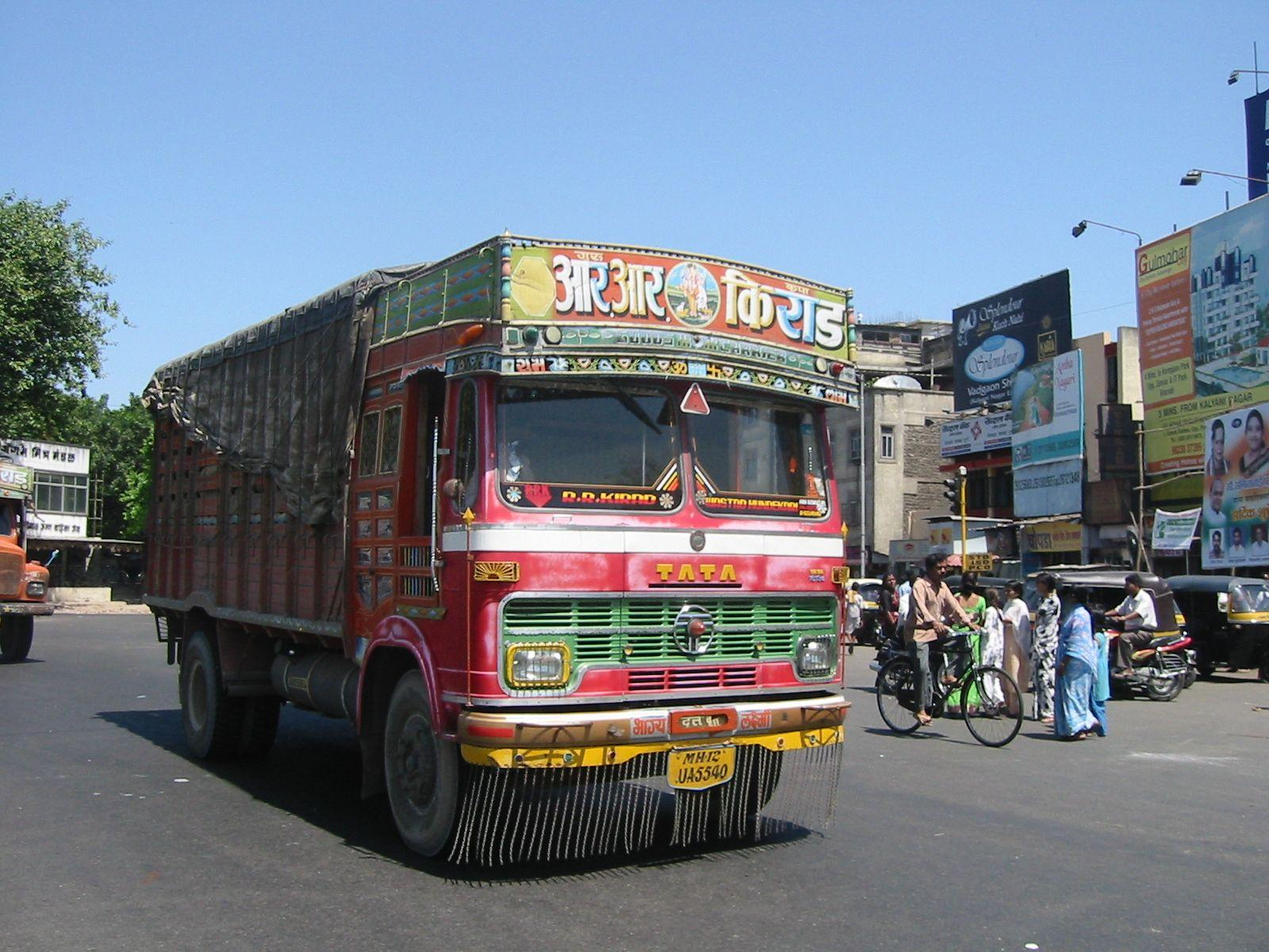License-Plate: (668, 745, 733, 782)
